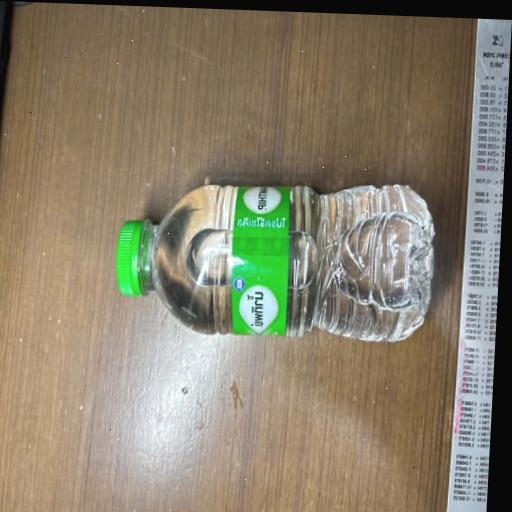ba: (98, 149, 452, 367)
